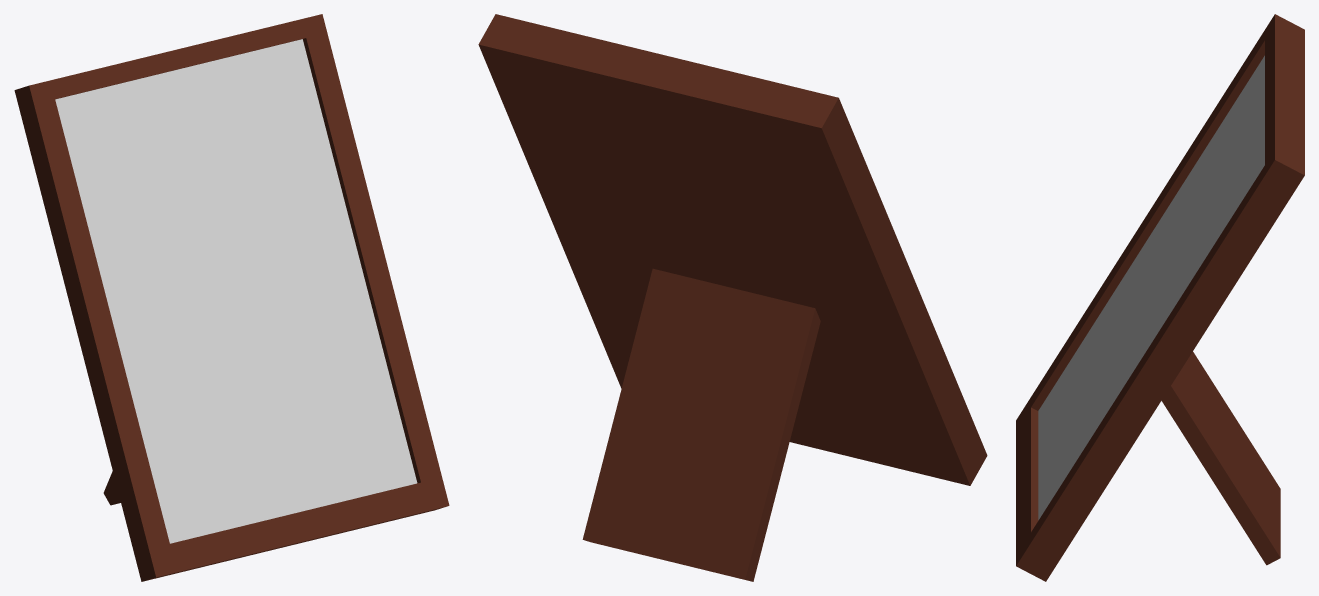
Rendered from PictureFrame.fbx.
3 views of the same model, side by side, from view 1: azimuth 30°, elevation 25°; view 2: azimuth 150°, elevation 25°; view 3: azimuth 270°, elevation 25° (orthographic). The views are drawn at different scales.
Parts seen in each view (by area): view 1: Cube; view 2: Cube; view 3: Cube.
Part boxes in pixels (x1,y1,x2,y2): Cube: [14, 14, 449, 581]; Cube: [478, 14, 987, 581]; Cube: [1016, 14, 1304, 581].
Bounding box in the file's own units: 400 × 568 × 335.
